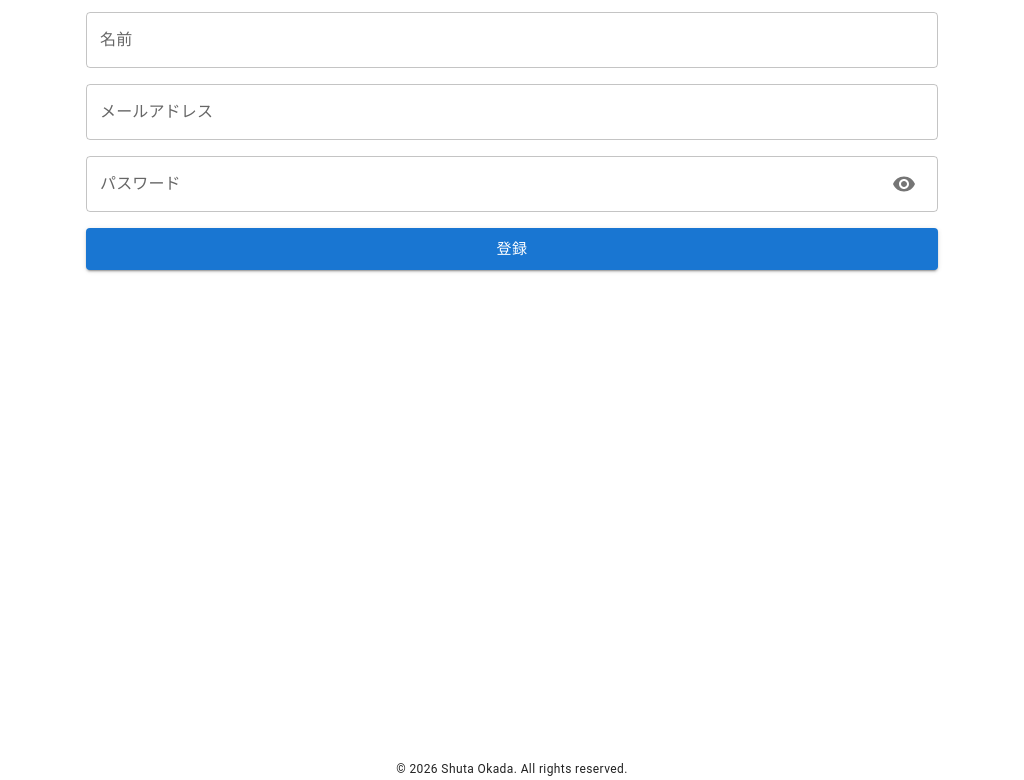
it: サインアップAPIでユーザー登録する › ステータスコードが409の場合 › エラーメッセージが表示されること
In the field labelled "名前": {"x": 512, "y": 40} [86,12,938,68], type "大谷 翔平"
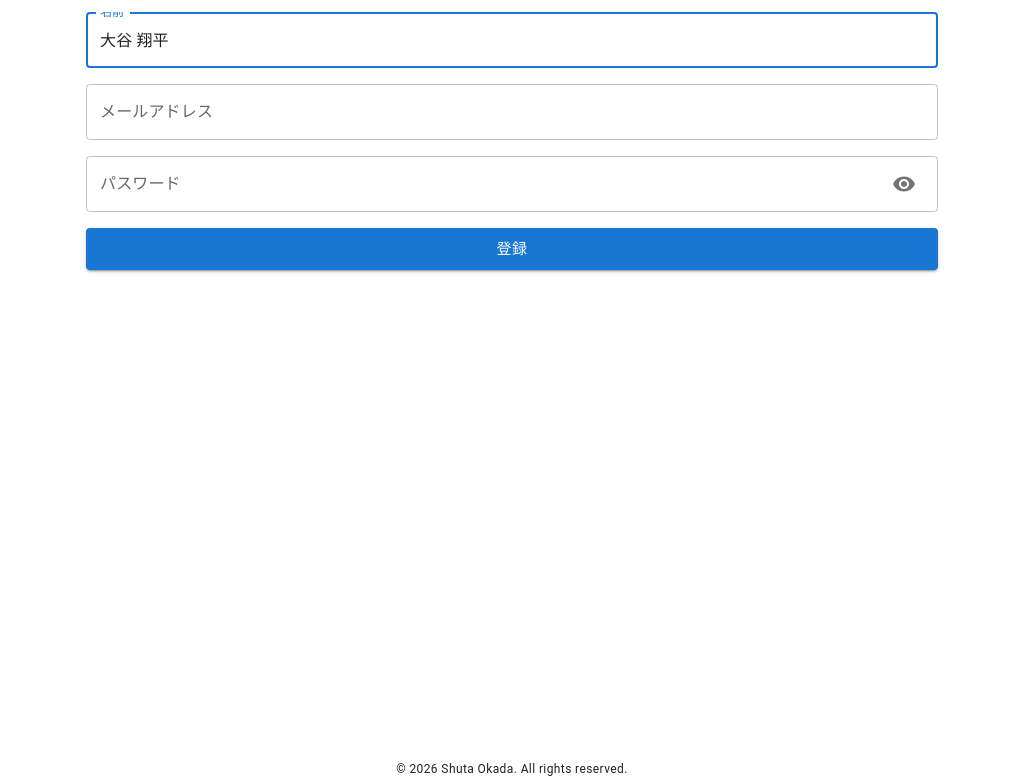
In the field labelled "メールアドレス": {"x": 512, "y": 112} [86,84,938,140], type "hoge@example.com"
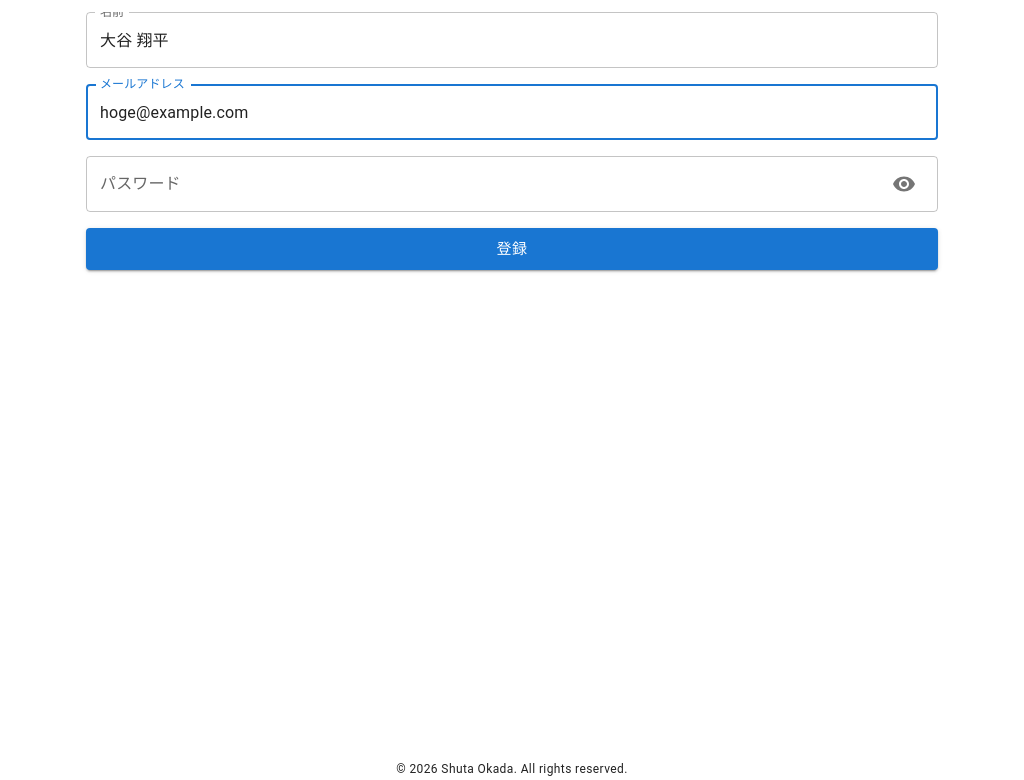
In the password field labelled "パスワード": {"x": 485, "y": 184} [86,156,884,212], type "Password123"
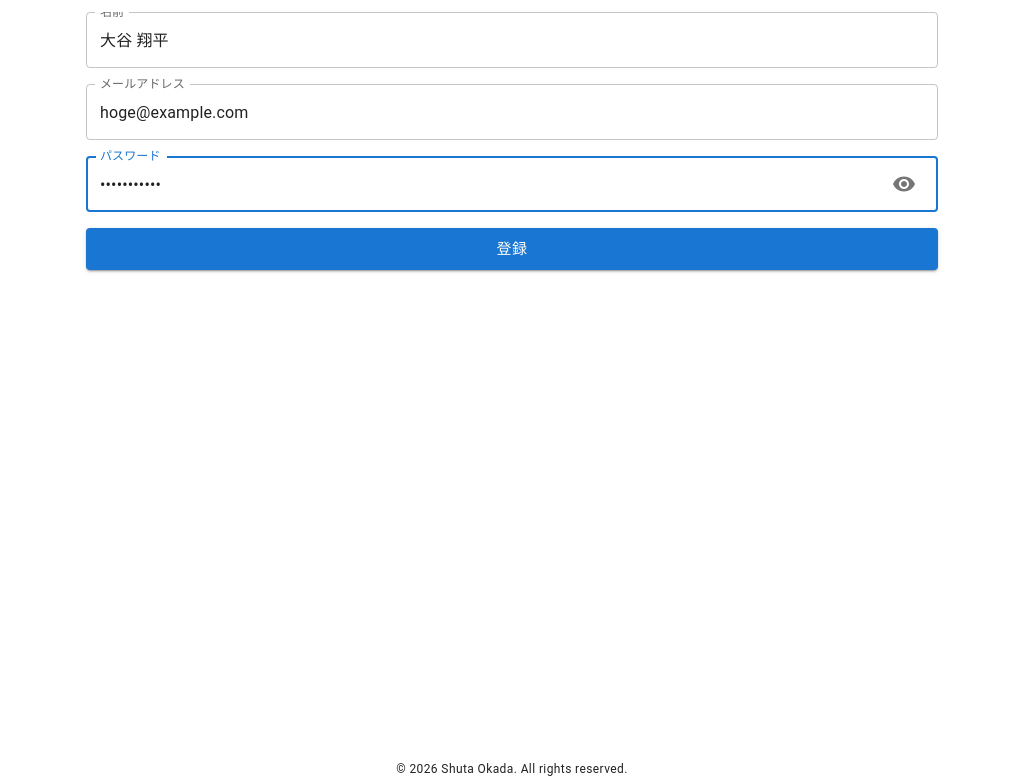
Click the button "登録": {"x": 512, "y": 249} [86,228,938,270]
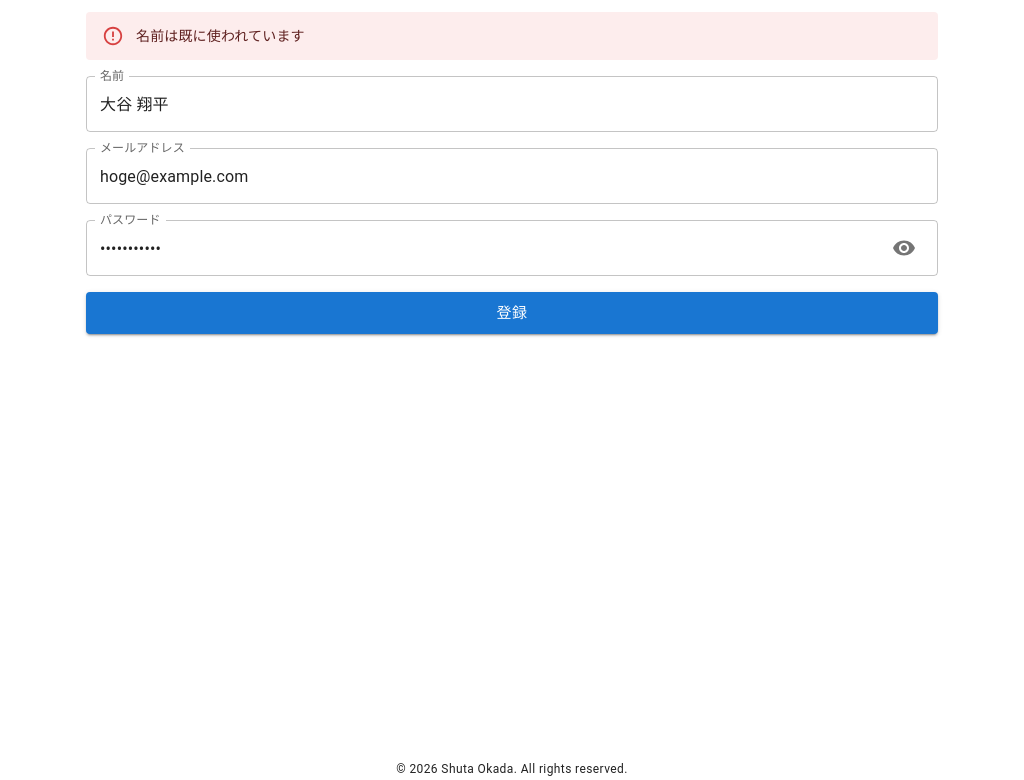
Expected: the text "名前は既に使われています" is shown, [136,28,305,44]
